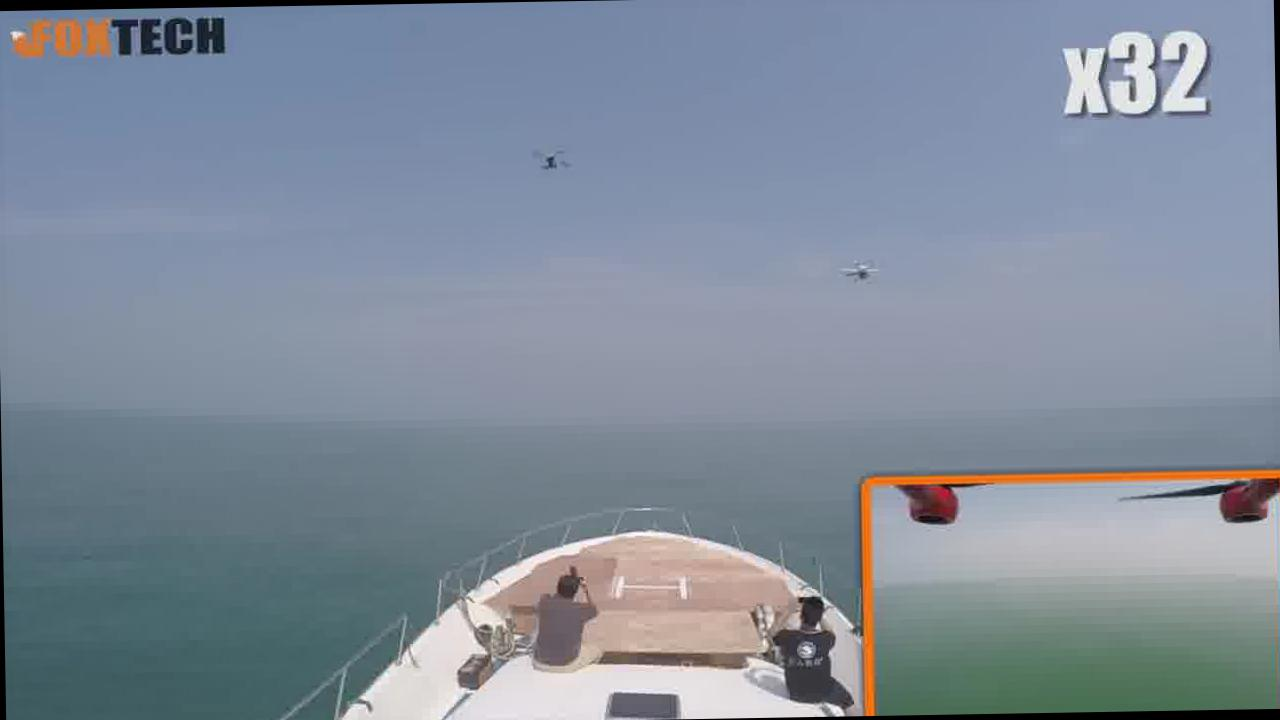drone: (519, 143, 579, 184), (827, 250, 887, 288)
